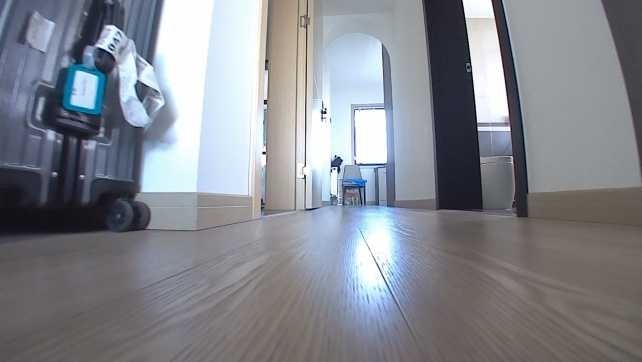toilet: (480, 154, 514, 210)
